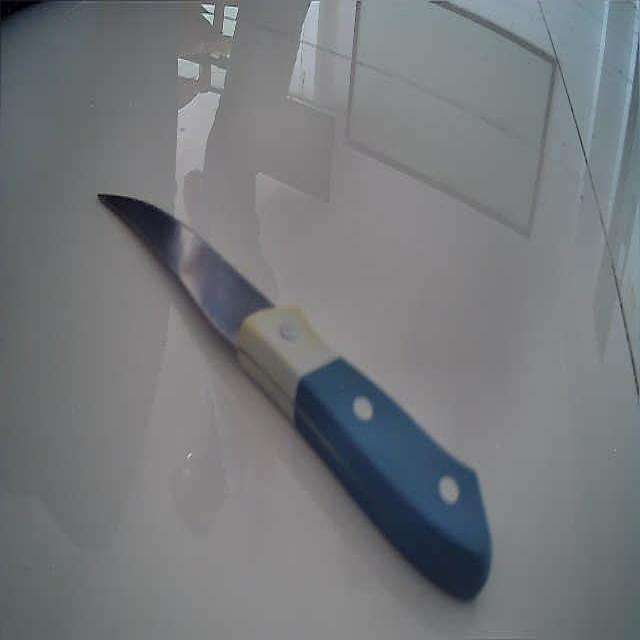knife: (96, 192, 492, 601)
